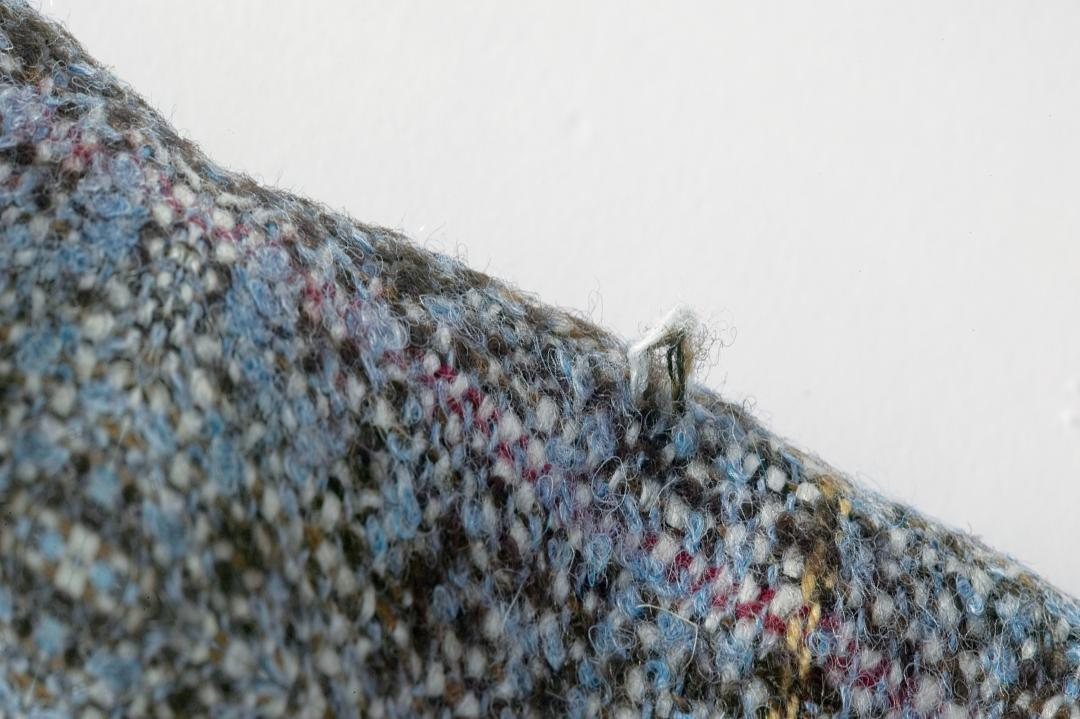snag: (616, 299, 723, 428)
